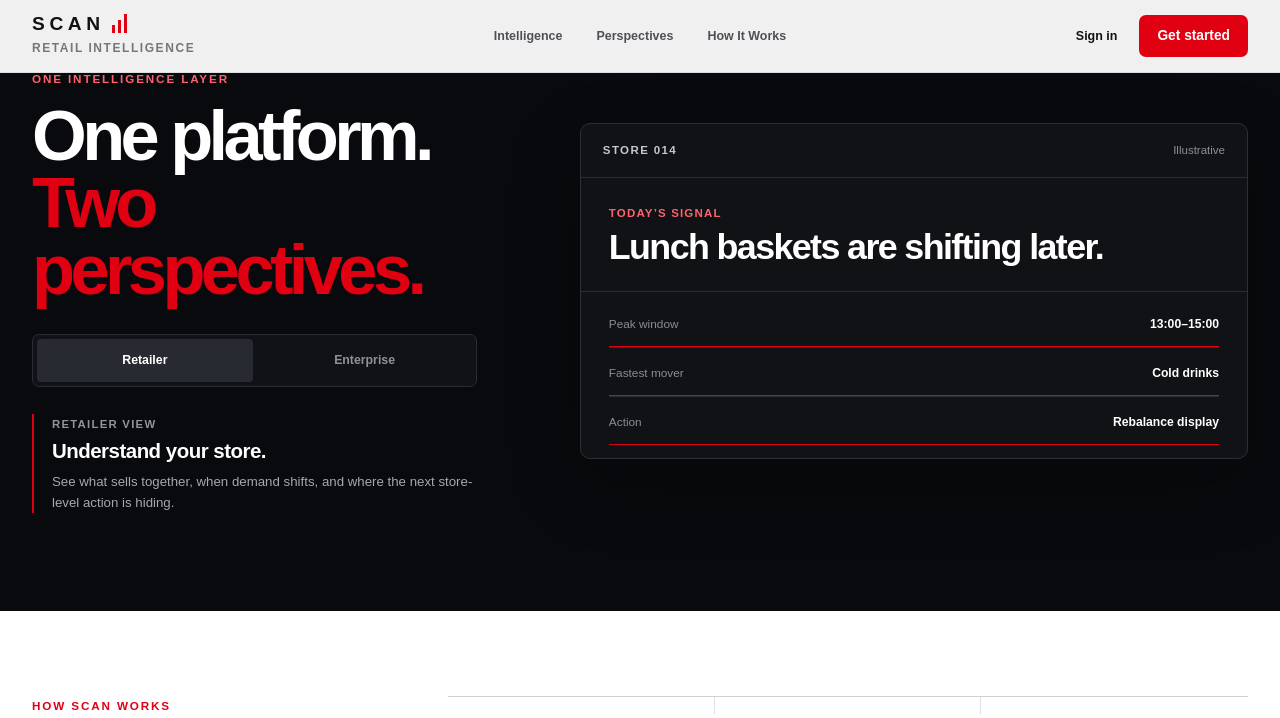
Test: LandingPage › switches between retailer and enterprise perspectives
(page scrolled)
Click the tab "Enterprise": click(365, 360) [257,339,472,382]
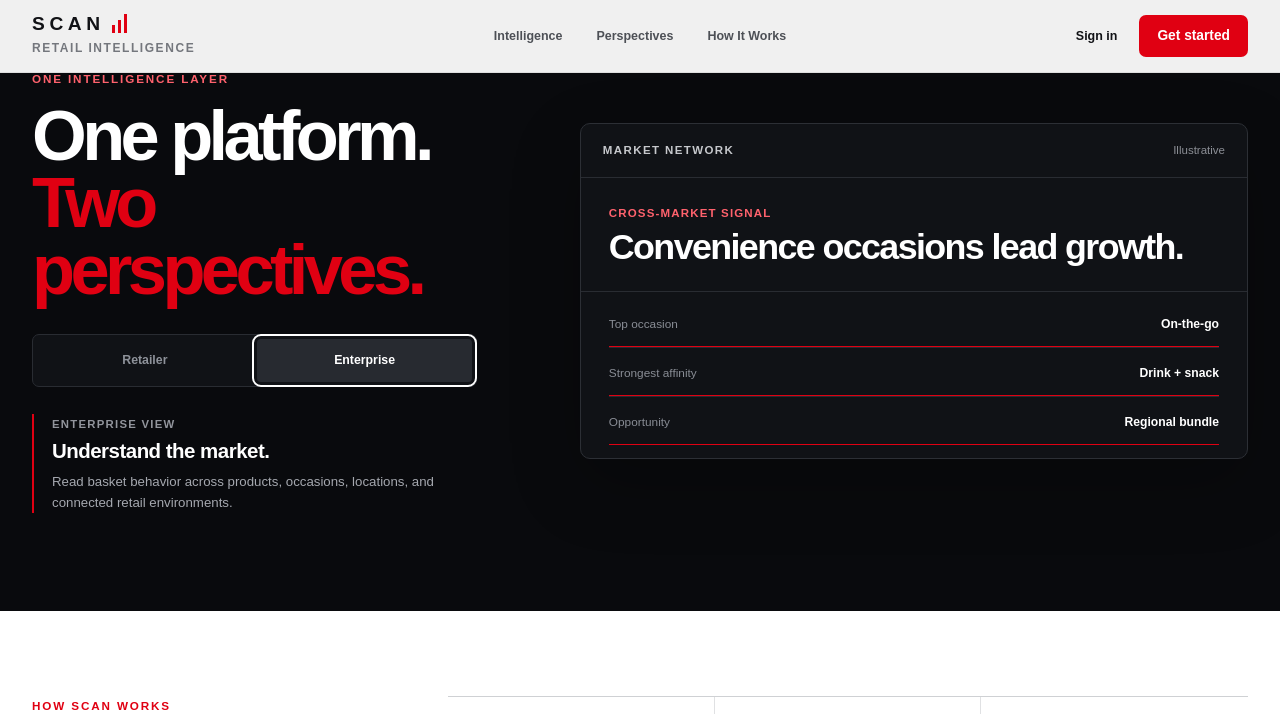
Now the heading "Understand the market." is shown, box [52,439,269,462]
Now the element named "Enterprise intelligence preview" is shown, box [580,123,1248,459]
